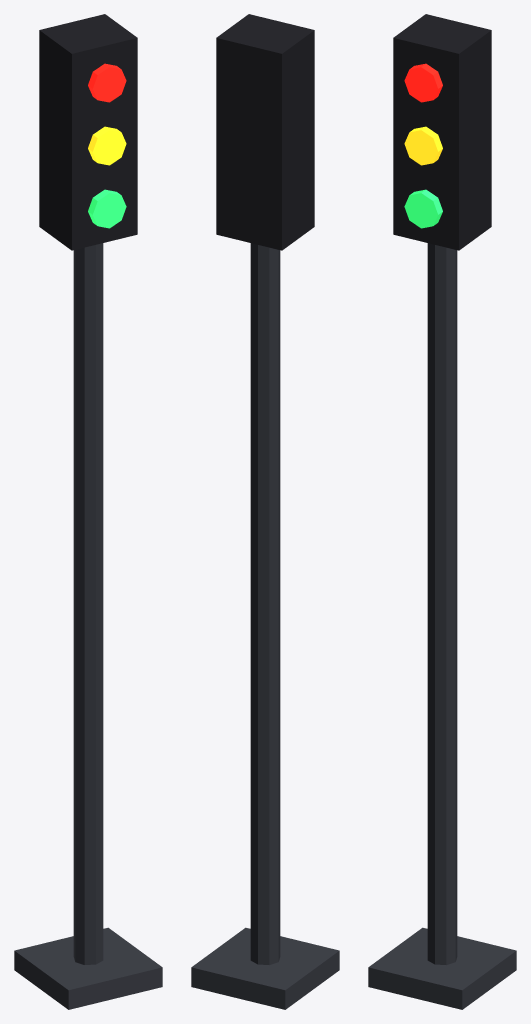
File: traffic_light.glb
3 renders of one model, left to right at view 1: azimuth 30°, elevation 25°; view 2: azimuth 150°, elevation 25°; view 3: azimuth 330°, elevation 25°, orthographic.
Parts seen in each view (by area): view 1: traffic_light; view 2: traffic_light; view 3: traffic_light.
Boxes of the visible parts, <box> form: traffic_light: <box>14,14,162,1009</box>; traffic_light: <box>191,14,339,1009</box>; traffic_light: <box>368,14,516,1009</box>.
Size of the model in its own units: 0.5 by 4.8 by 0.5.
